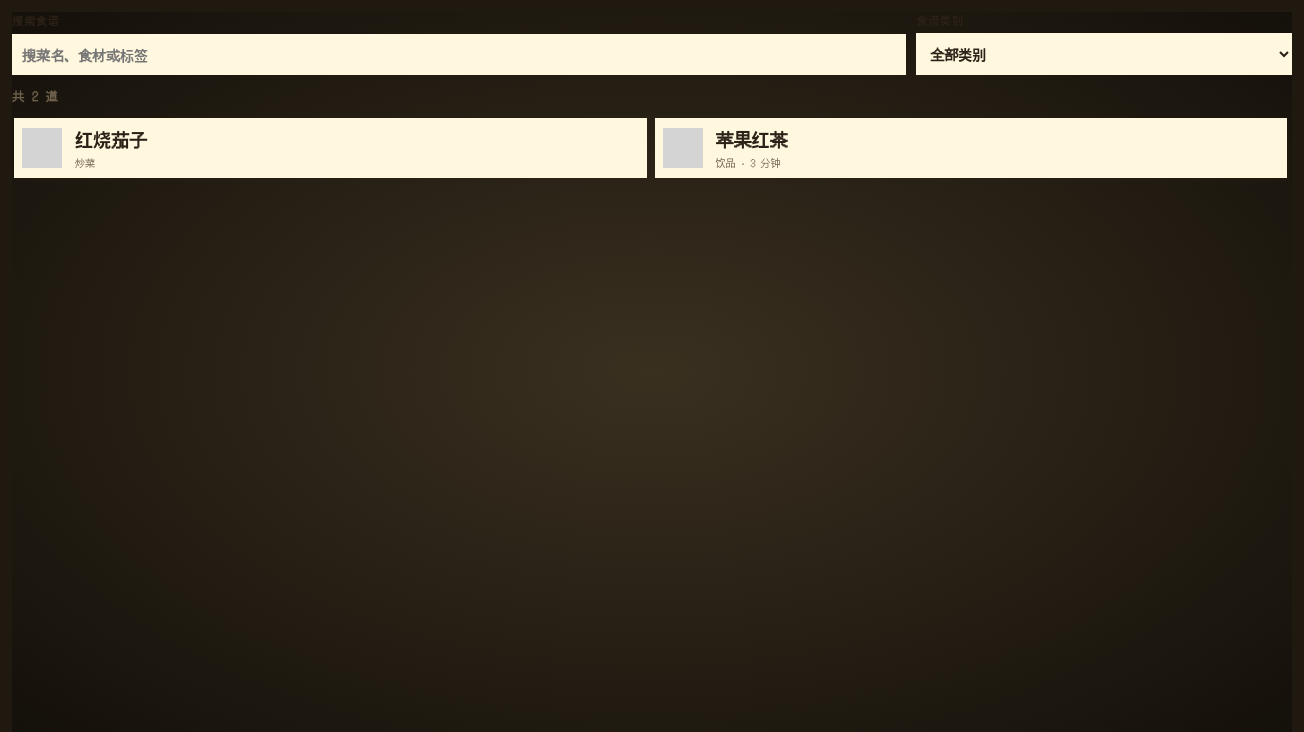
RecipeCatalogPicker › filters categories and reports the result count
Select "饮品" in the dropdown labelled "食谱类别" at (1104, 54), box [916,33,1292,75]
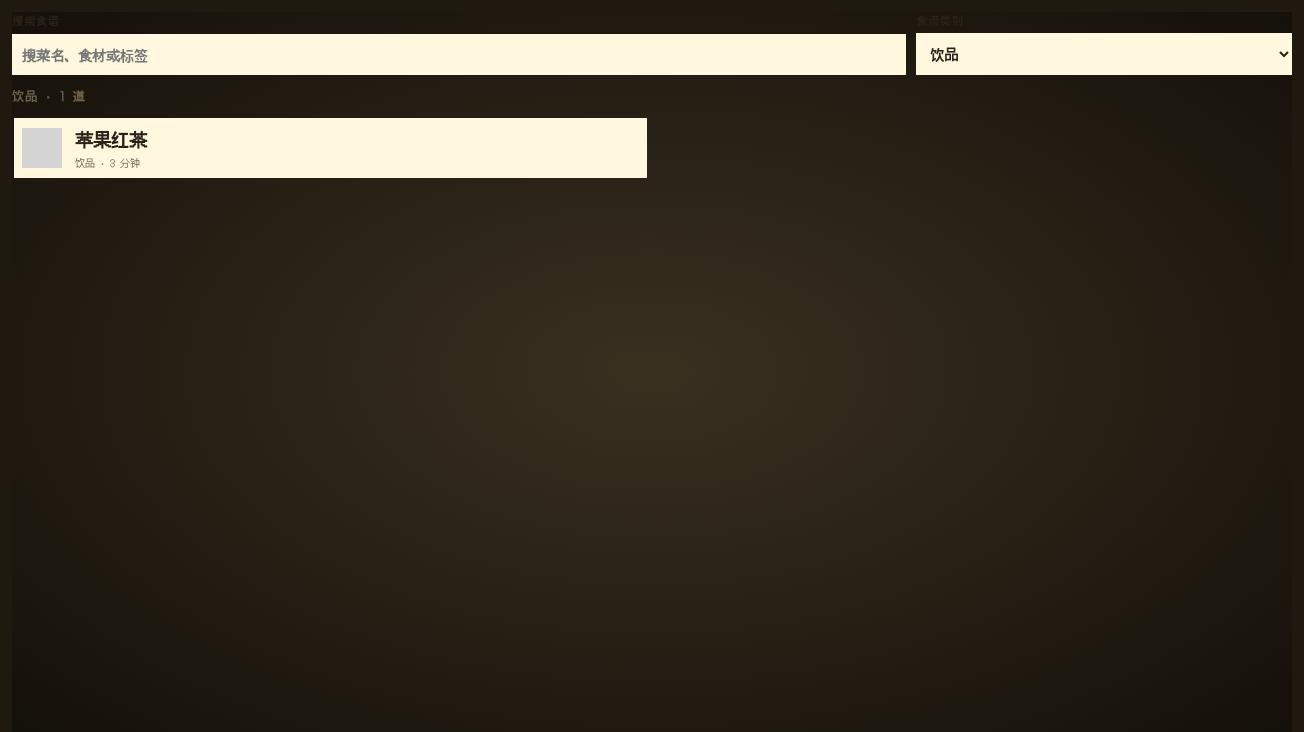
Expected: the button with aria-label "选择苹果红茶" is shown, [14,118,646,178]
Now the text "饮品 · 1 道" is shown, box [12,87,86,104]
